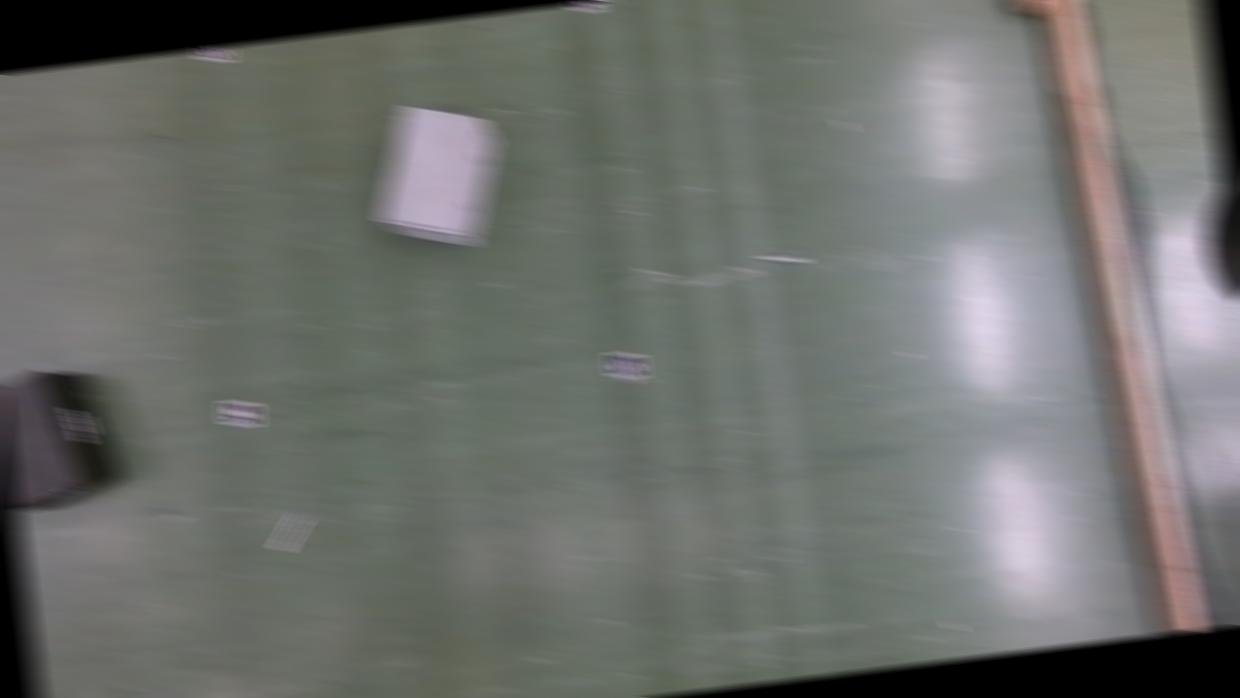probes: (274, 514, 310, 552), (761, 251, 810, 267)
rako: (364, 96, 510, 258), (0, 362, 127, 515)
